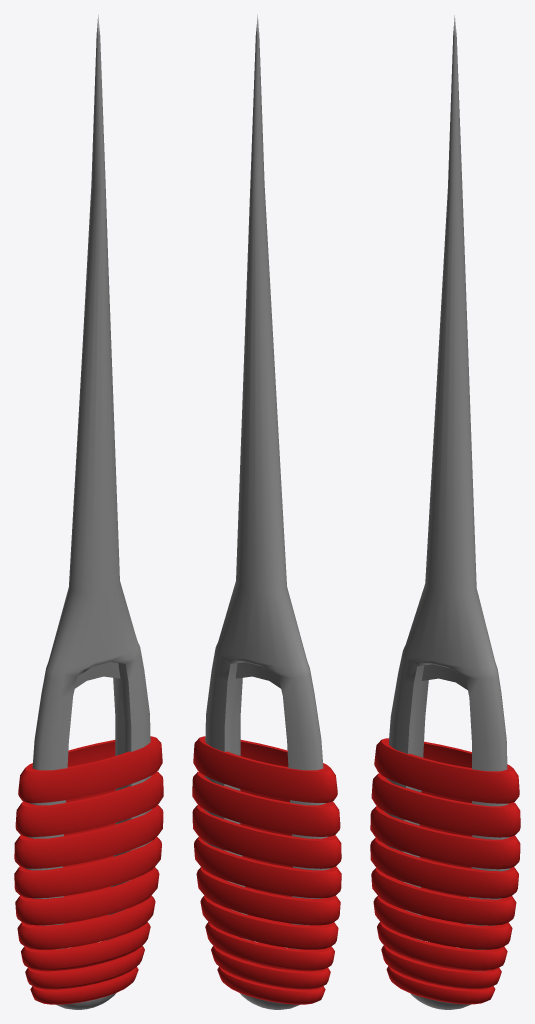
Rendered from needle NEW.FBX.
The picture shows the model from 3 angles, left to right: view 1: azimuth 30°, elevation 25°; view 2: azimuth 150°, elevation 25°; view 3: azimuth 330°, elevation 25°; orthographic projection.
Parts seen in each view (by area): view 1: Cylinder069; view 2: Cylinder069; view 3: Cylinder069.
Part boxes in pixels (x1=…): Cylinder069: x1=14, y1=14, x2=163, y2=1009; Cylinder069: x1=192, y1=14, x2=341, y2=1009; Cylinder069: x1=370, y1=15, x2=520, y2=1009.
Size of the model in its own units: 9.34 by 59.82 by 3.19.
